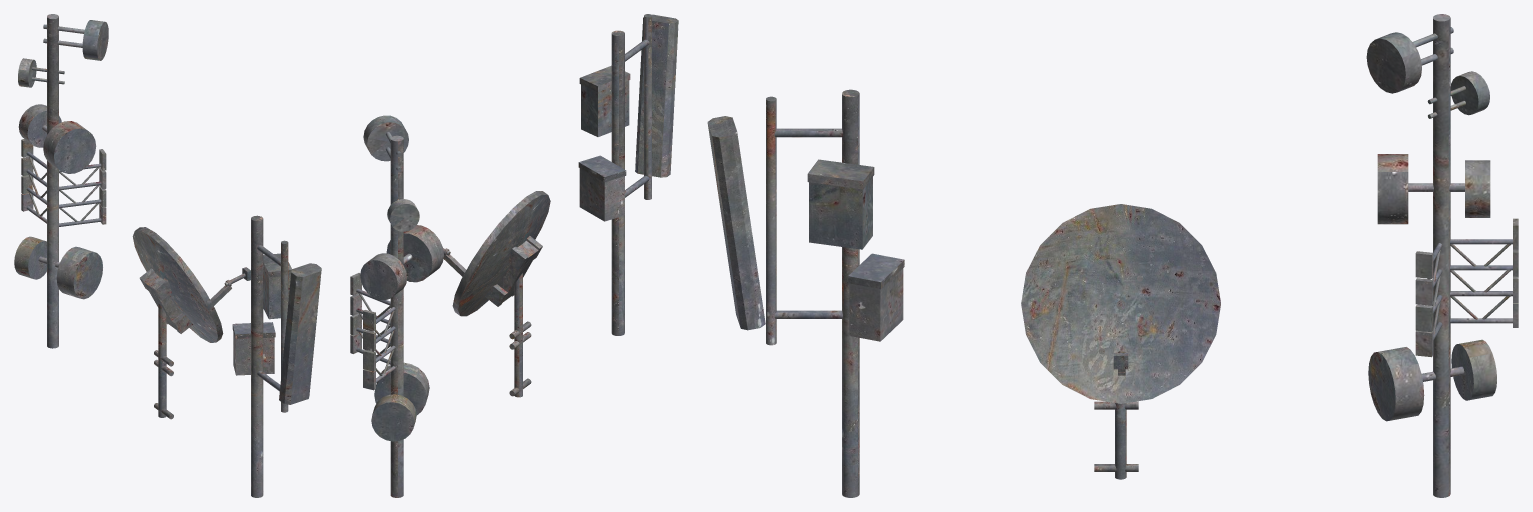
The model's file is rusted antennas.fbx.
3 renders of one model, left to right at view 1: azimuth 30°, elevation 25°; view 2: azimuth 150°, elevation 25°; view 3: azimuth 270°, elevation 25°, orthographic. The views are drawn at different scales.
Parts seen in each view (by area): view 1: pCylinder88, pCylinder86, pCylinder87; view 2: pCylinder88, pCylinder86, pCylinder87; view 3: pCylinder87, pCylinder88, pCylinder86.
Boxes of the visible parts, <box> form: pCylinder88: <box>14,14,108,348</box>; pCylinder86: <box>232,215,321,497</box>; pCylinder87: <box>132,227,250,419</box>; pCylinder88: <box>350,115,443,497</box>; pCylinder86: <box>578,14,678,335</box>; pCylinder87: <box>443,191,550,397</box>; pCylinder87: <box>1021,204,1220,479</box>; pCylinder88: <box>1366,14,1518,497</box>; pCylinder86: <box>707,89,904,497</box>.
Bounding box in the file's own units: 3.03 × 8.43 × 13.
Materials: 1 (1 with a texture image).
